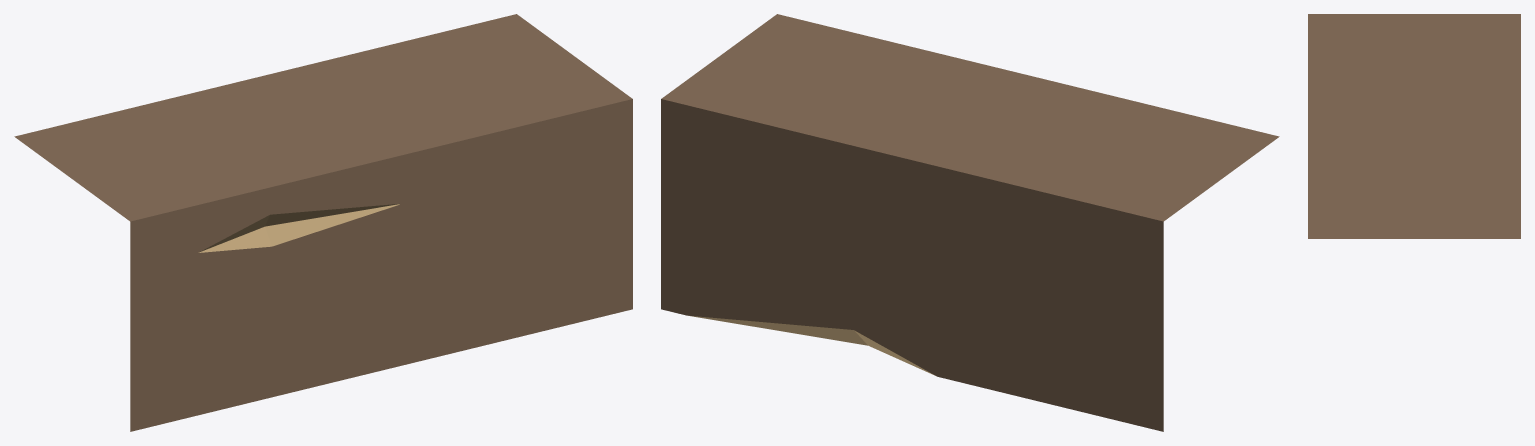
File: Cave_Prop_Support_Ceiling_Beam_2.glb
3 renders of one model, left to right at view 1: azimuth 30°, elevation 25°; view 2: azimuth 150°, elevation 25°; view 3: azimuth 270°, elevation 25°, orthographic. The views are drawn at different scales.
Parts seen in each view (by area): view 1: Cave_Prop_Support_Ceiling_Beam_2; view 2: Cave_Prop_Support_Ceiling_Beam_2; view 3: Cave_Prop_Support_Ceiling_Beam_2.
Boxes of the visible parts, left/top/right/bottom form: Cave_Prop_Support_Ceiling_Beam_2: left=14, top=14, right=632, bottom=431; Cave_Prop_Support_Ceiling_Beam_2: left=661, top=14, right=1279, bottom=431; Cave_Prop_Support_Ceiling_Beam_2: left=1308, top=14, right=1520, bottom=238.
Bounding box in the file's own units: 1 × 0.4 × 0.4.
